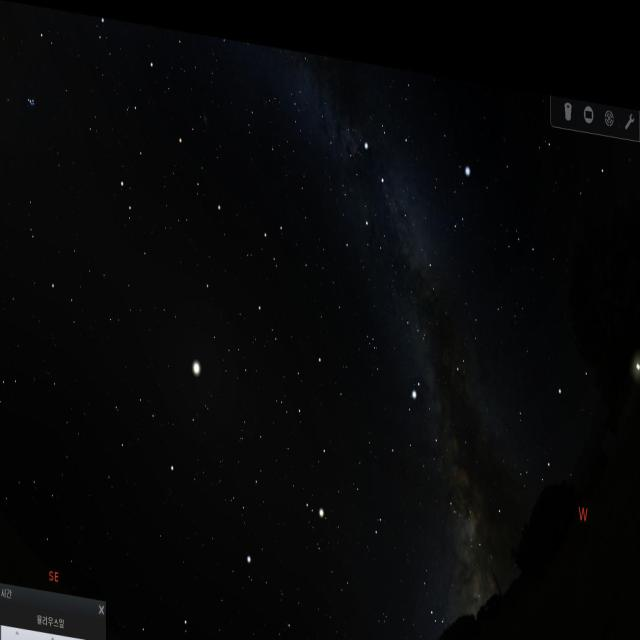aquila: (387, 356, 473, 509)
cygnus: (359, 105, 437, 260)
lyra: (441, 138, 470, 224)
pleiades: (18, 85, 42, 122)
